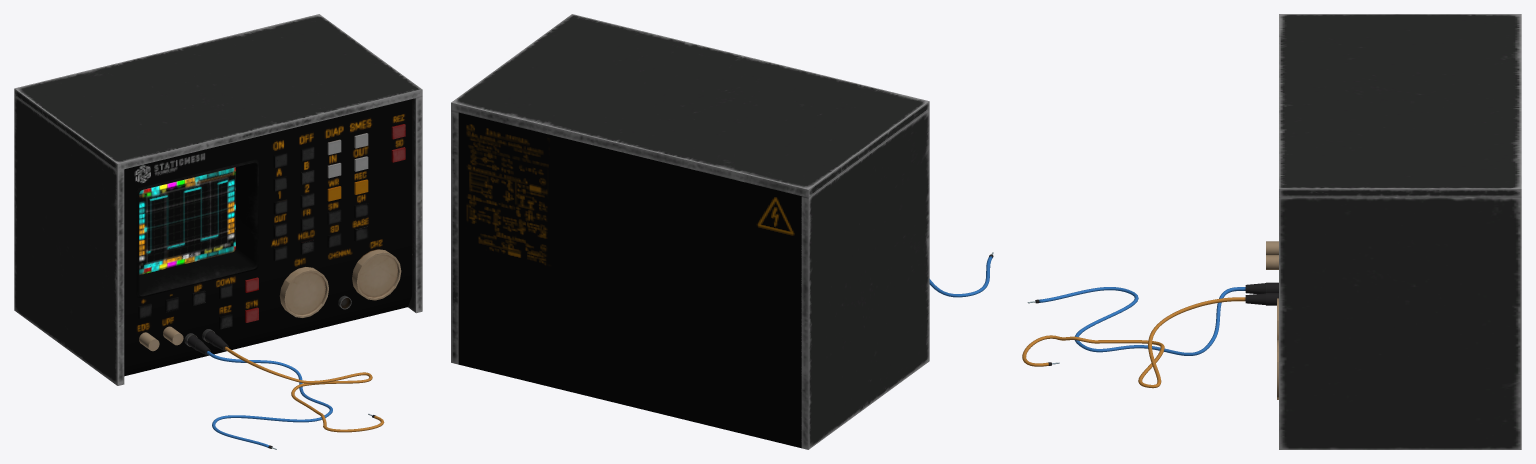
The model's file is SM_Device01.gltf.
The picture shows the model from 3 angles, left to right: view 1: azimuth 30°, elevation 25°; view 2: azimuth 150°, elevation 25°; view 3: azimuth 270°, elevation 25°; orthographic projection. The views are drawn at different scales.
Parts seen in each view (by area): view 1: SM_Device01; view 2: SM_Device01; view 3: SM_Device01.
Boxes of the visible parts, x1,y1,x2,y2 form: SM_Device01: (14, 14, 422, 449); SM_Device01: (451, 14, 993, 449); SM_Device01: (1022, 14, 1521, 449).
Bounding box in the file's own units: 0.6774 × 0.4711 × 0.8173.
Materials: 1 (1 with a texture image).
